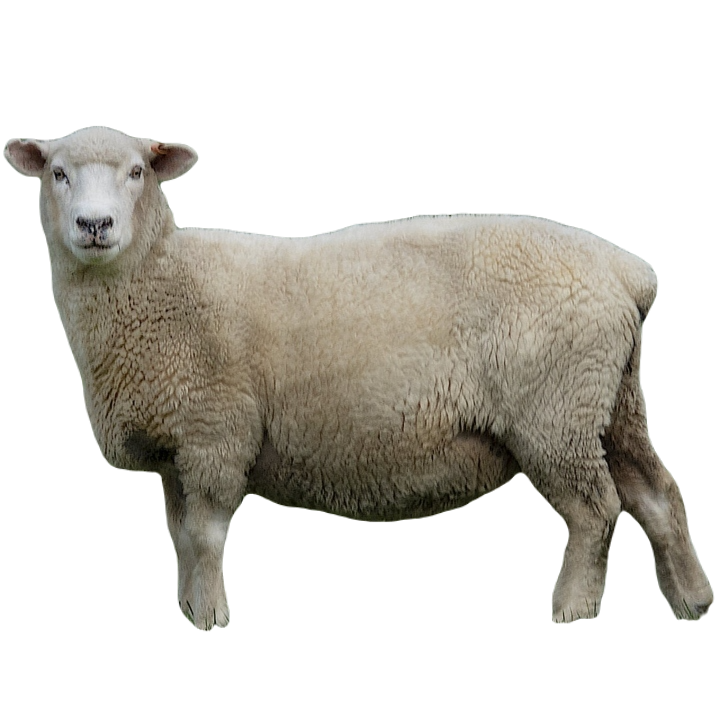Sheep: (0, 122, 720, 637)
